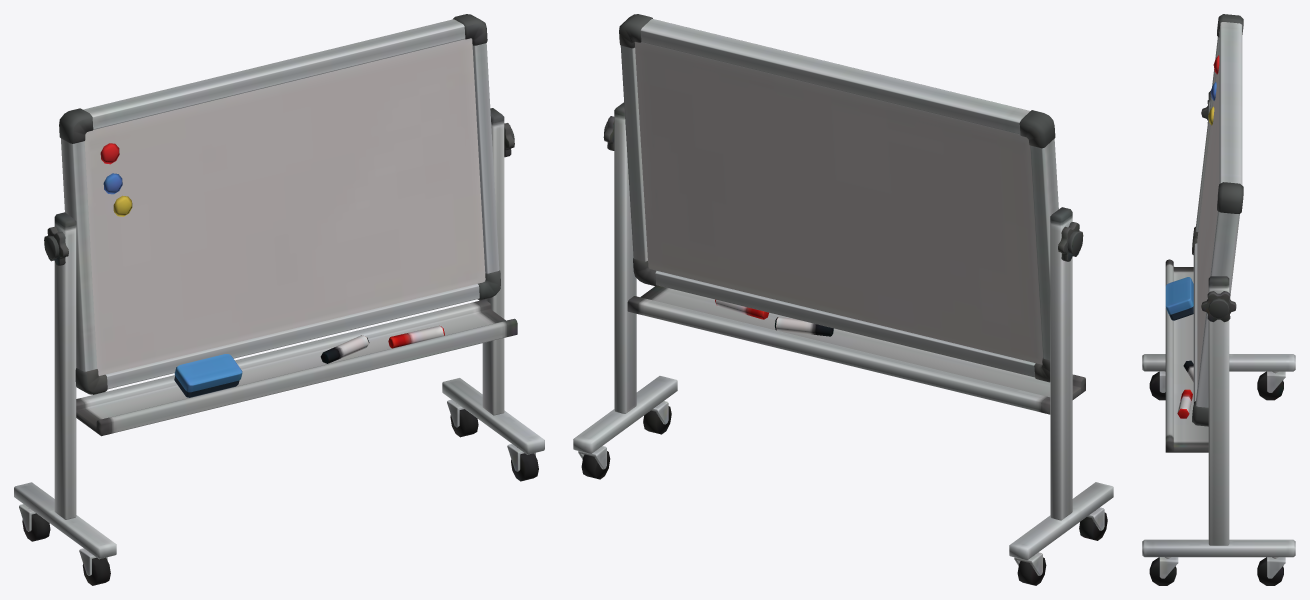
3 views of the same model, side by side, from view 1: azimuth 30°, elevation 25°; view 2: azimuth 150°, elevation 25°; view 3: azimuth 270°, elevation 25° (orthographic). The views are drawn at different scales.
Bounding box in the file's own units: 18.35 × 16.72 × 5.97.
1 material, 1 textured.
